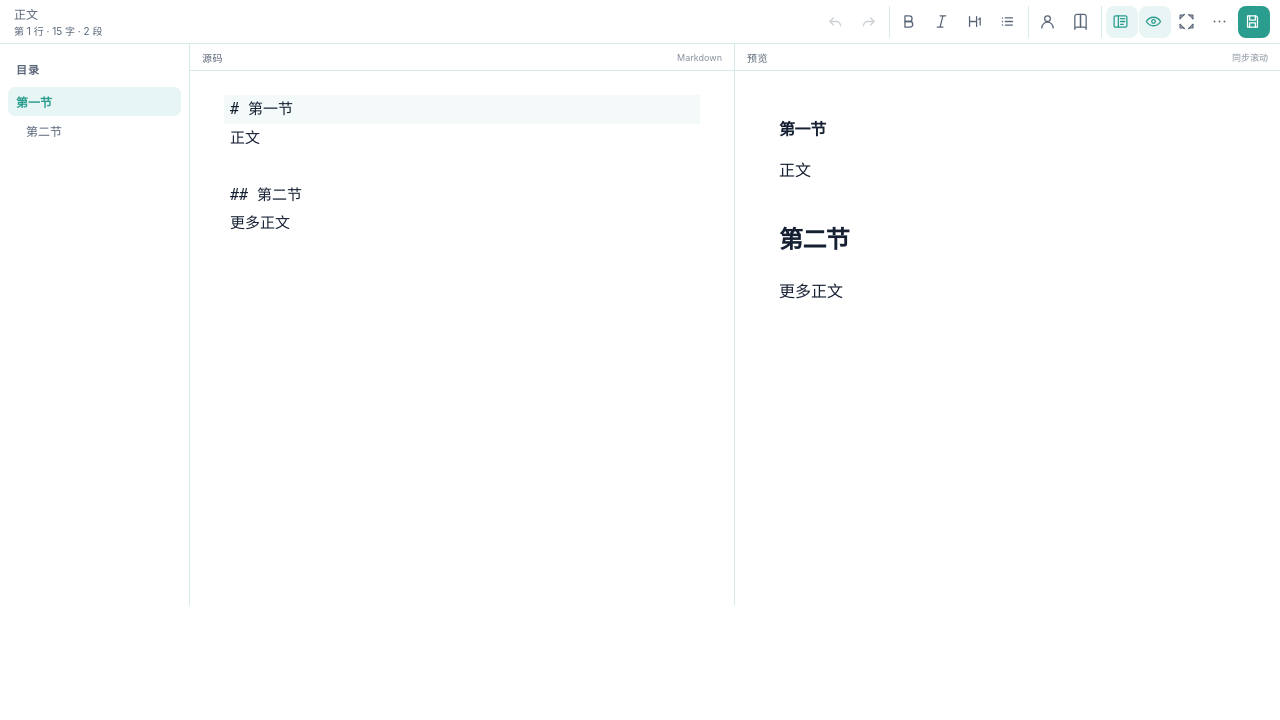
Test case: MarkdownEditor shortcuts › shows the outline only when the article contains Markdown headings
The width and height of the screenshot is (1280, 720).
expect the element named "正文目录" shows "第一节": met, box 8,87 -> 181,116
Click the button named "切换正文目录": x=1122, y=22 1106,6 -> 1138,38
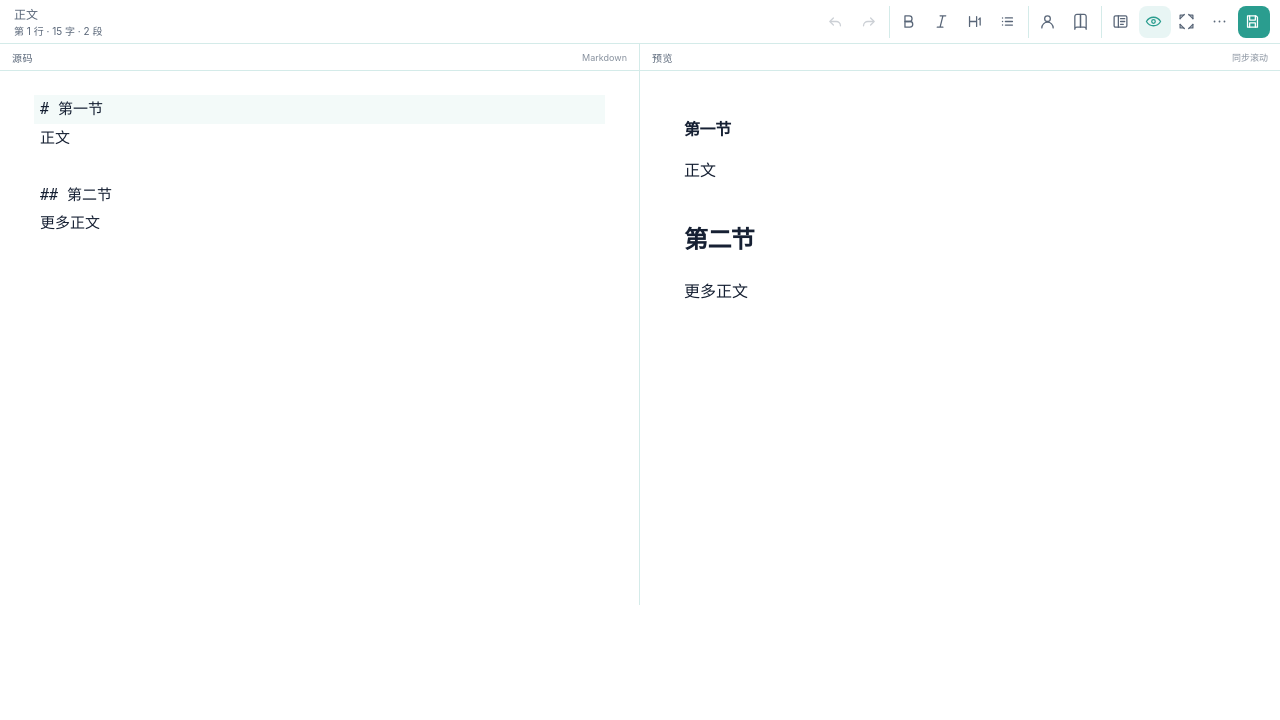
expect the element "正文目录" is gone: met
